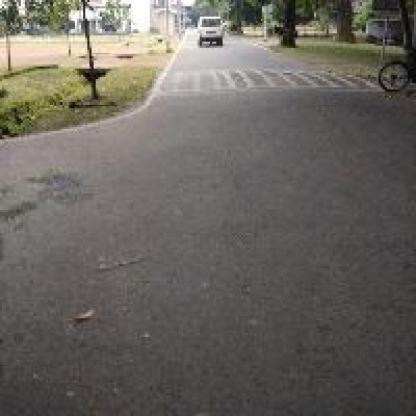Speed Bump: (154, 64, 376, 96)
